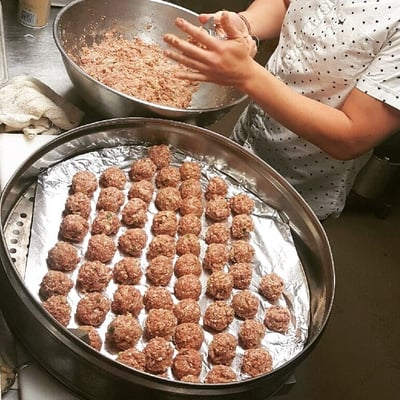pizza: (16, 0, 51, 29)
sushi: (0, 117, 339, 400), (53, 0, 251, 131)
